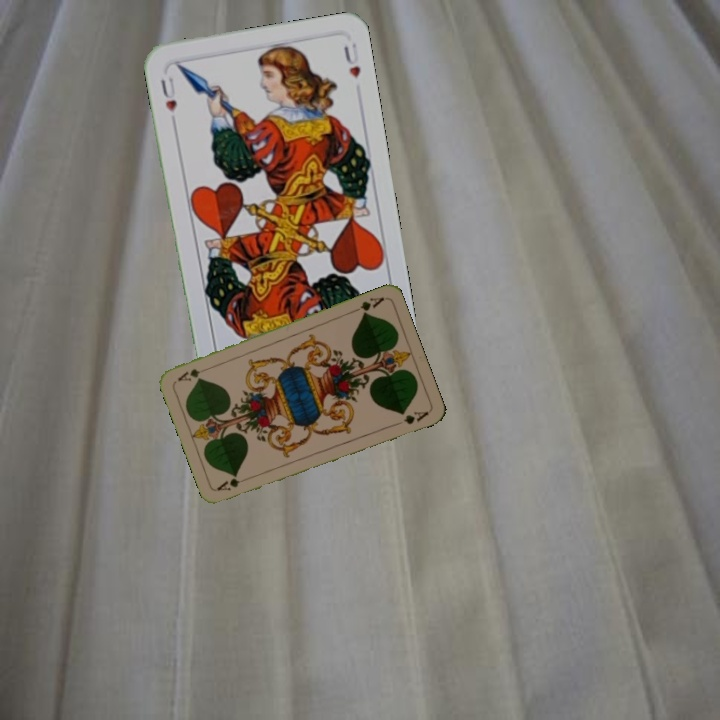GA: (348, 293, 387, 318), (213, 474, 253, 493)
HU: (156, 73, 180, 115)
